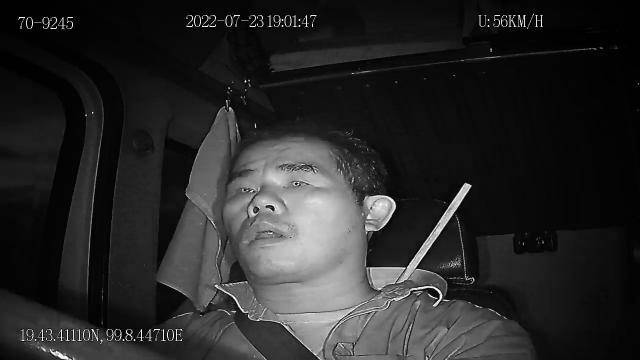SafeDriving: (276, 156, 326, 193), (272, 152, 327, 183), (277, 167, 323, 194), (228, 176, 262, 202)
Seatbelt: (233, 306, 323, 360)
